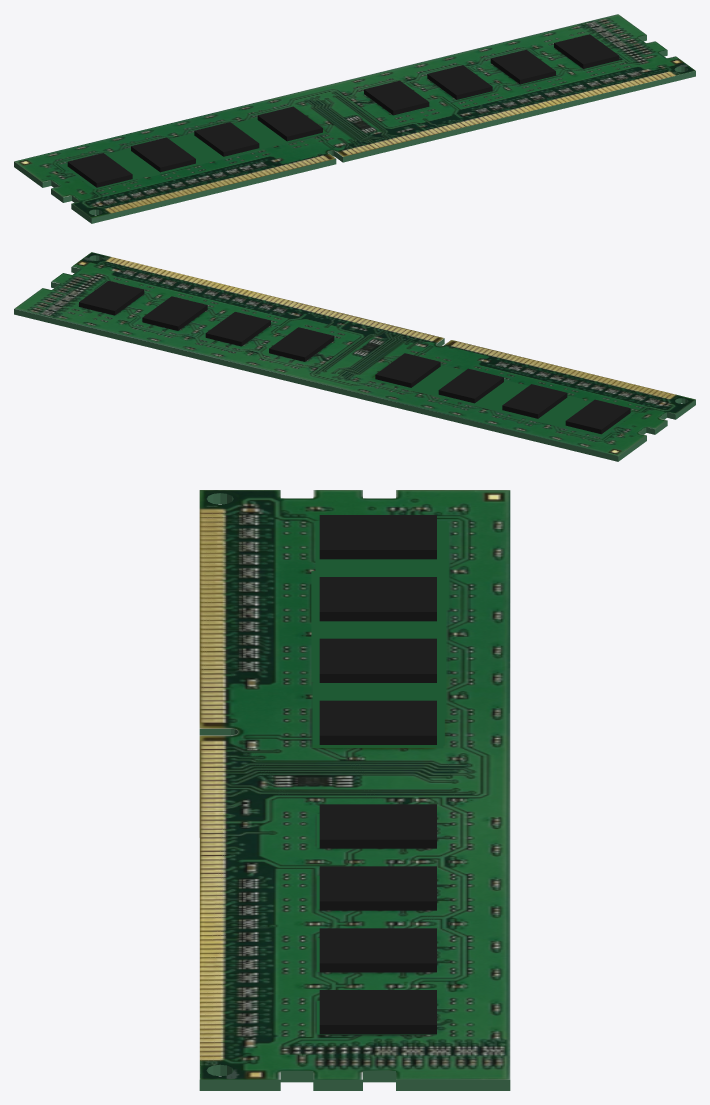
Rendered from ram.glb.
3 views of the same model, one above another, from view 1: azimuth 30°, elevation 25°; view 2: azimuth 150°, elevation 25°; view 3: azimuth 270°, elevation 25° (orthographic). The views are drawn at different scales.
Parts seen in each view (by area): view 1: Object_2; view 2: Object_2; view 3: Object_2.
Part boxes in pixels (x1,y1,x2,y2): Object_2: [14, 14, 695, 223]; Object_2: [14, 252, 695, 461]; Object_2: [199, 490, 510, 1090].
Bounding box in the file's own units: 6.95 × 0.112 × 1.55.
Materials: 1 (1 with a texture image).
